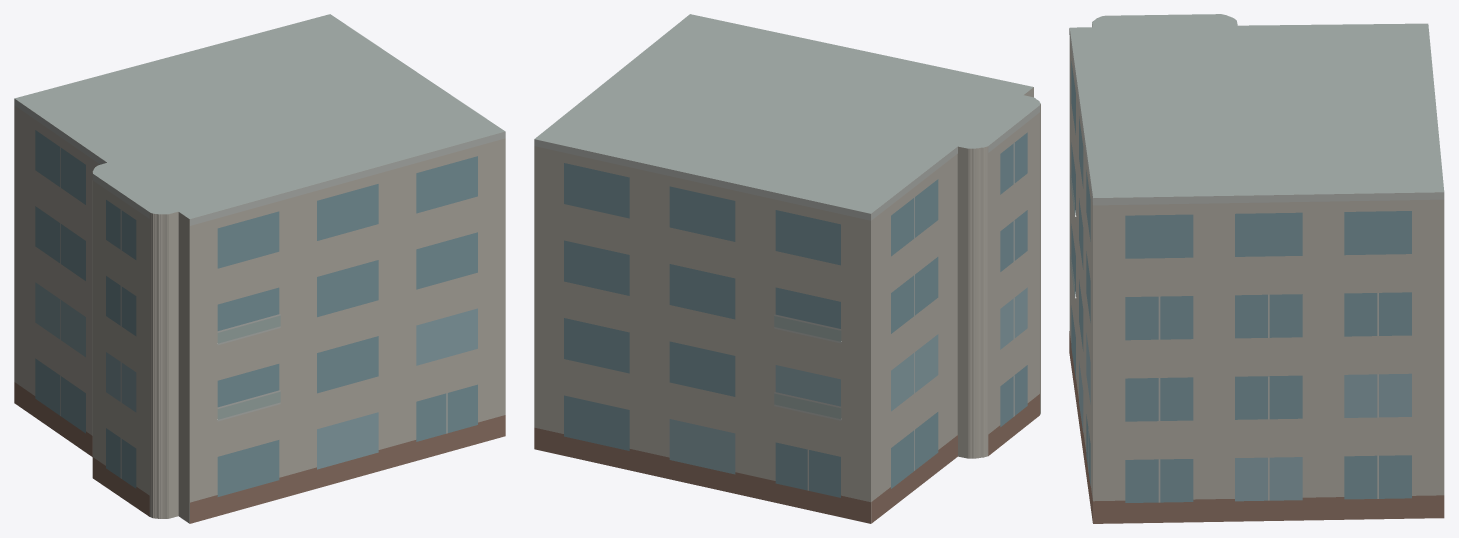
Rendered from survey-upis-33001749.glb.
3 views of the same model, side by side, from view 1: azimuth 30°, elevation 25°; view 2: azimuth 150°, elevation 25°; view 3: azimuth 270°, elevation 25° (orthographic). The views are drawn at different scales.
Parts seen in each view (by area): view 1: survey-upis-33001749.tmp; view 2: survey-upis-33001749.tmp; view 3: survey-upis-33001749.tmp.
Boxes of the visible parts, x1=… form: survey-upis-33001749.tmp: x1=14, y1=14, x2=505, y2=523; survey-upis-33001749.tmp: x1=534, y1=14, x2=1040, y2=523; survey-upis-33001749.tmp: x1=1069, y1=14, x2=1444, y2=523.
Bounding box in the file's own units: 13.22 × 10.9 × 11.38.
